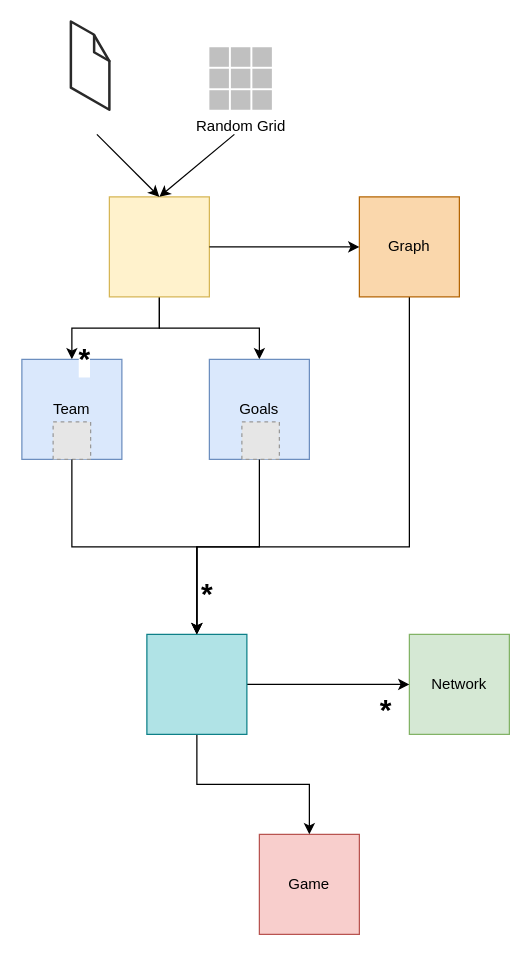
The diagram is 531 pixels wide and 958 high, and some of its shapes have lost their labels. Grey dashed boxes stand in for pictures. Here are the shapes that lost their labels. From the top down, the box of each, then its label:
(70, 20, 109, 110): Input Map
(108, 196, 209, 297): Environment
(146, 633, 247, 734): Strategy
